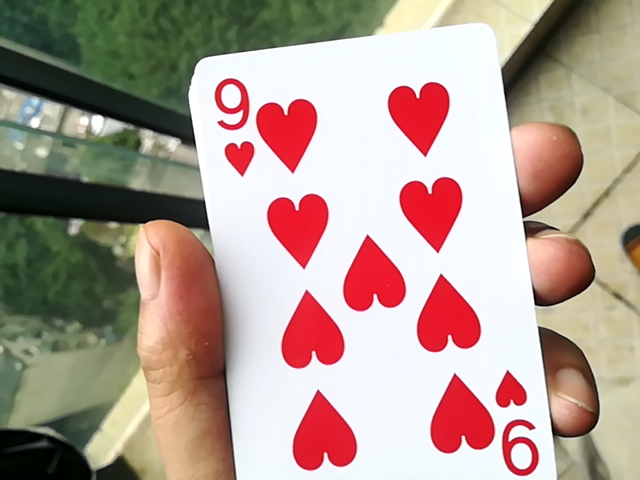hx 9: (176, 23, 546, 480)
